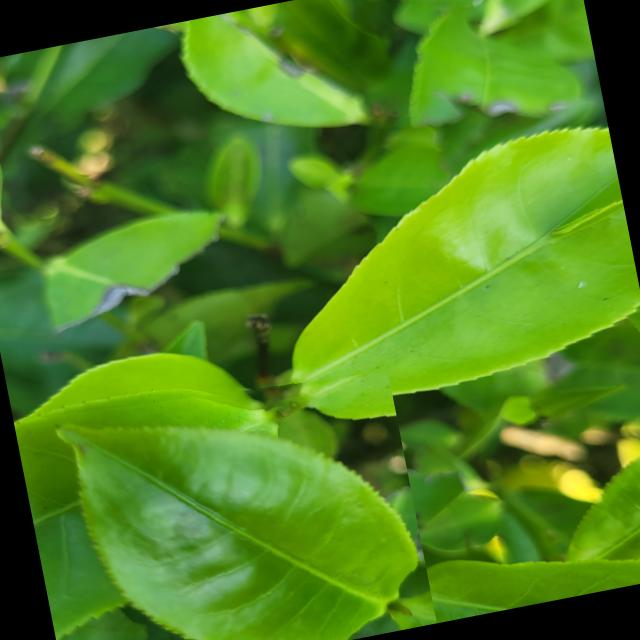Catagory A(1-2 days): (28, 349, 437, 640)
